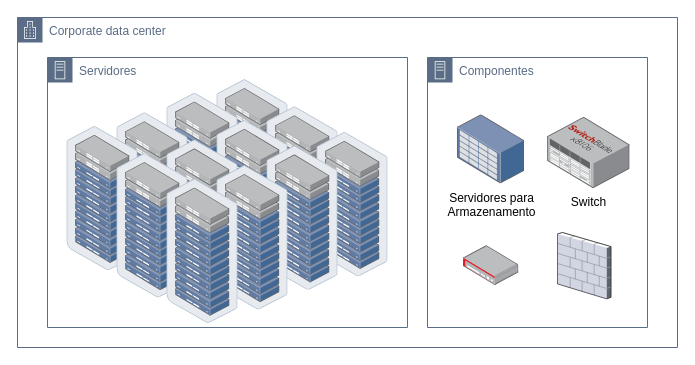
This 695x365 diagram has some shape labels left out. Here are the shapes that lost their labels. From the top down, the centre of each, then its label:
At point (490, 265): "Router".
At point (583, 265): "Firewall".
